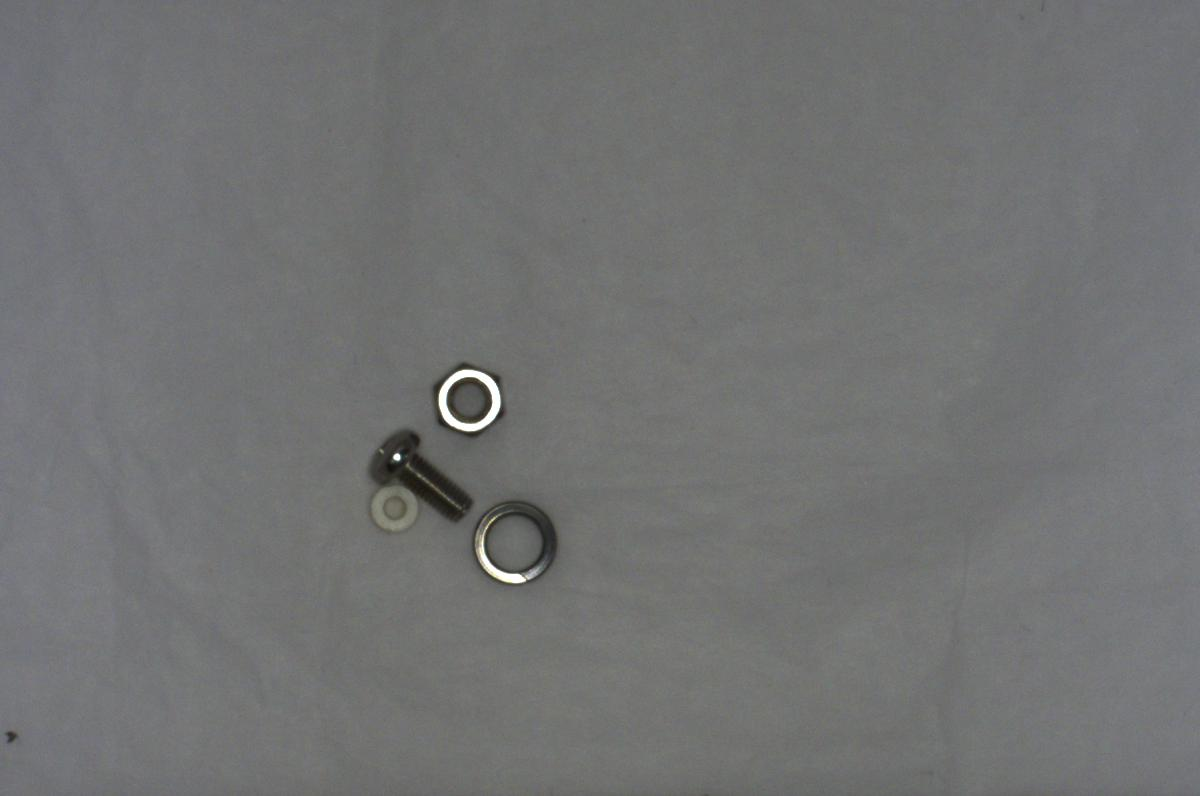Hexagon nut: (426, 352, 515, 441)
Plastic cushion pillar: (366, 486, 426, 538)
Round head screw: (365, 428, 478, 516)
Spring washer: (468, 495, 565, 590)
